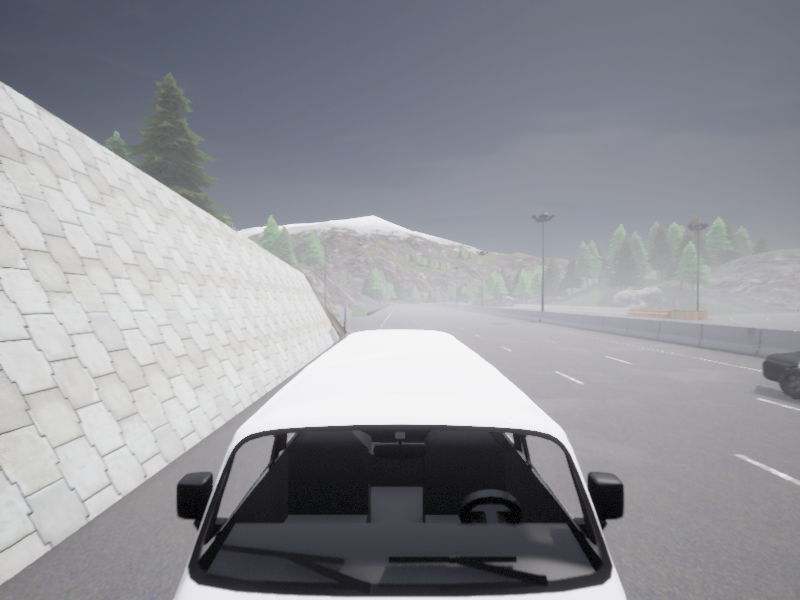vehicle: (174, 330, 625, 599), (762, 350, 799, 398), (466, 302, 469, 303)
